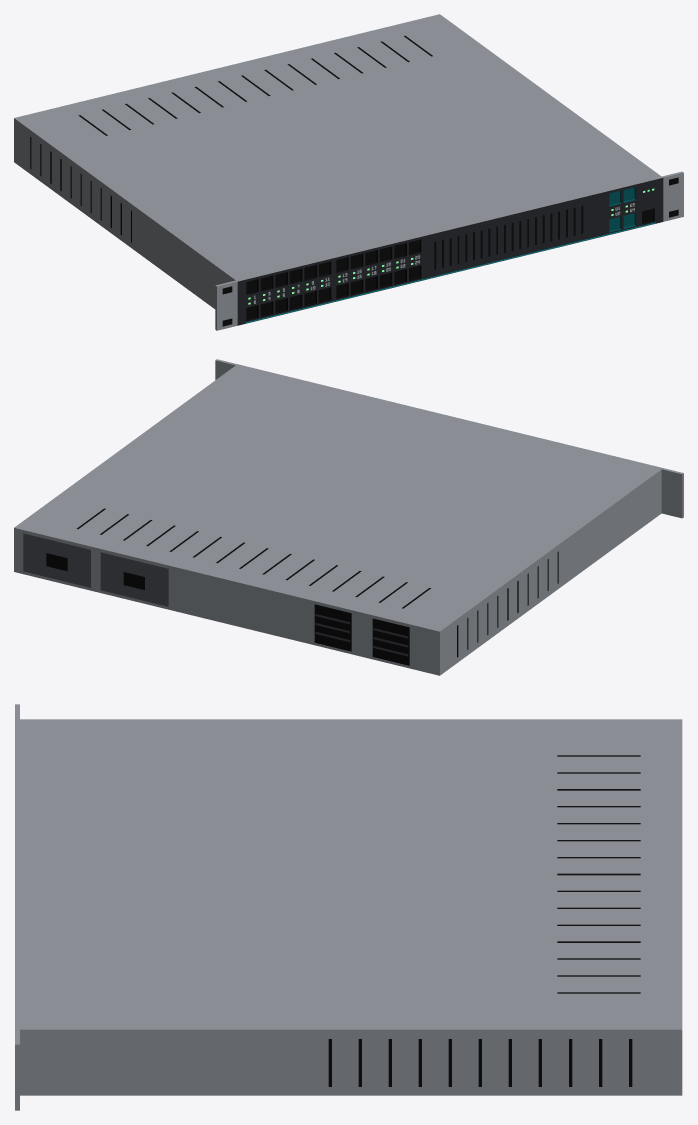
File: Switch_24P_1U.glb
3 views of the same model, one above another, from view 1: azimuth 30°, elevation 25°; view 2: azimuth 150°, elevation 25°; view 3: azimuth 270°, elevation 25° (orthographic). The views are drawn at different scales.
Parts seen in each view (by area): view 1: Switch_24P_1U; view 2: Switch_24P_1U; view 3: Switch_24P_1U.
Boxes of the visible parts, <box> form: Switch_24P_1U: <box>14,14,683,330</box>; Switch_24P_1U: <box>14,359,683,675</box>; Switch_24P_1U: <box>15,704,682,1110</box>.
Size of the model in its own units: 0.4826 by 0.0441 by 0.4015.
2 materials, 1 textured.
